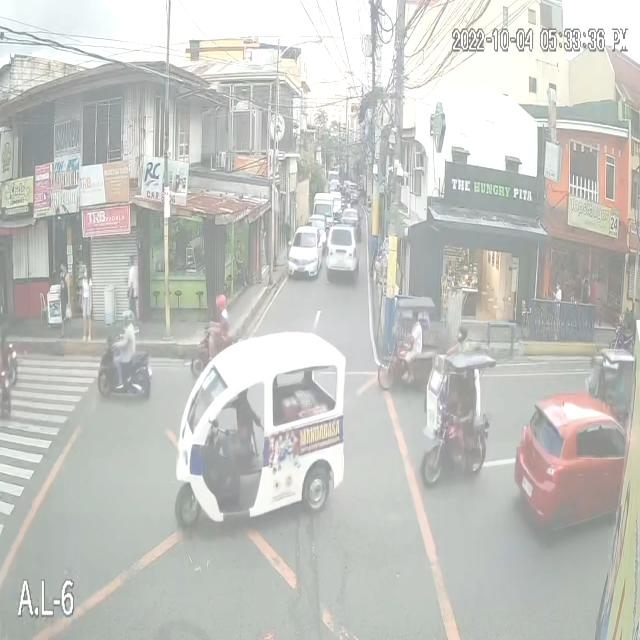Half-Faced: (116, 301, 134, 336)
Invalid: (213, 292, 228, 314)
